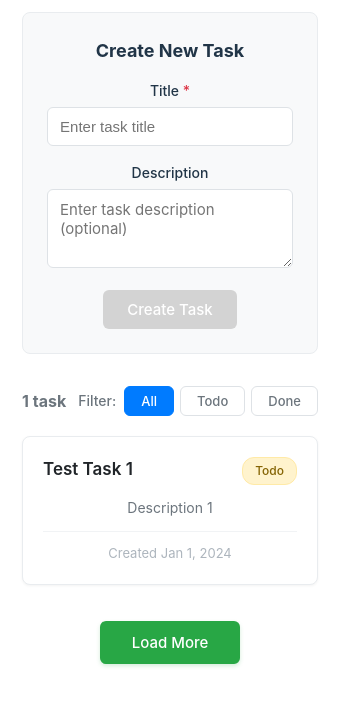
Test case: TaskList › loads more tasks when button clicked
(page scrolled)
Expected: the heading "Test Task 1" is shown, top-left (43, 457), bottom-right (133, 482)
Click the button "Load More": (170, 642) top-left (100, 621), bottom-right (240, 664)
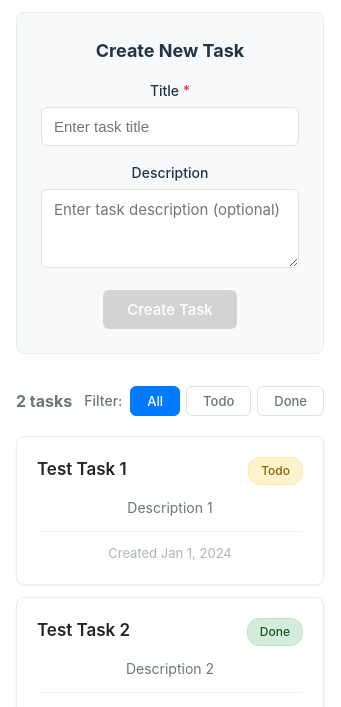
Expected: the heading "Test Task 2" is shown, top-left (37, 618), bottom-right (130, 643)
